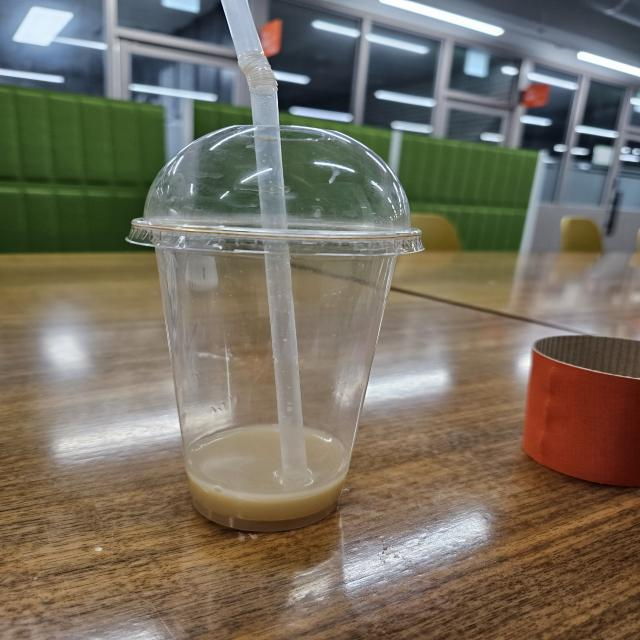cup: (124, 115, 432, 540)
